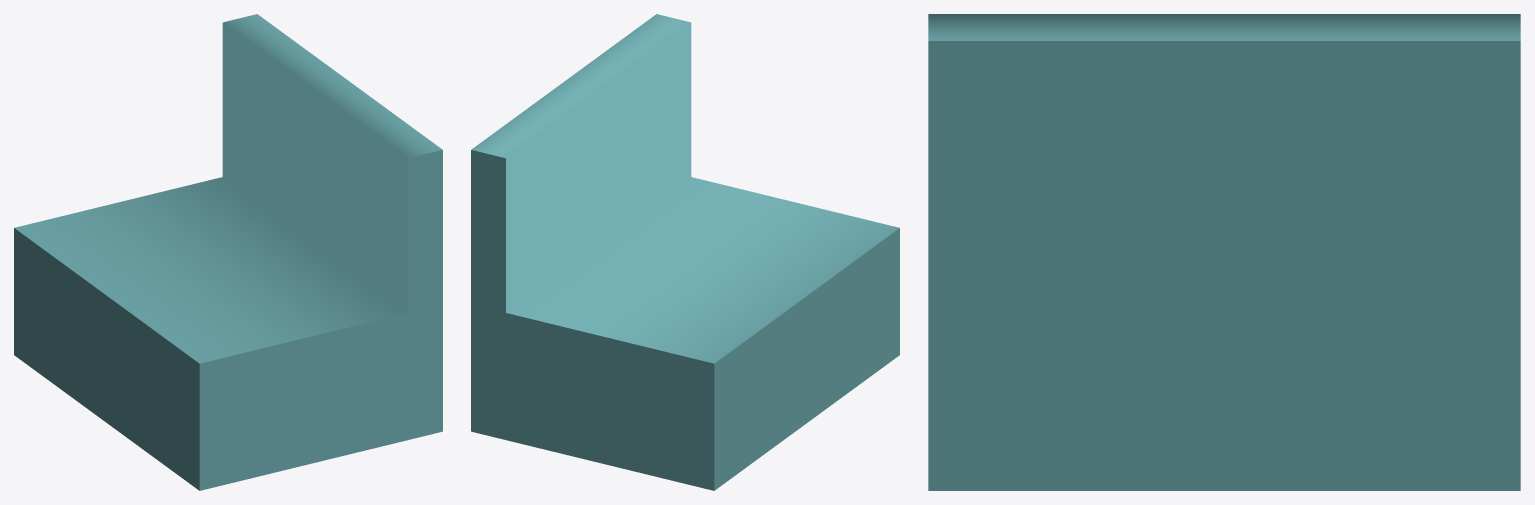
3 views of the same model, side by side, from view 1: azimuth 30°, elevation 25°; view 2: azimuth 150°, elevation 25°; view 3: azimuth 270°, elevation 25° (orthographic). The views are drawn at different scales.
Parts seen in each view (by area): view 1: 00_polygon0; view 2: 00_polygon0; view 3: 00_polygon0.
Boxes of the visible parts, x1=… form: 00_polygon0: x1=14, y1=14, x2=442, y2=490; 00_polygon0: x1=471, y1=14, x2=899, y2=490; 00_polygon0: x1=928, y1=14, x2=1520, y2=490.
Bounding box in the file's own units: 0.2188 × 0.2422 × 0.2891.
